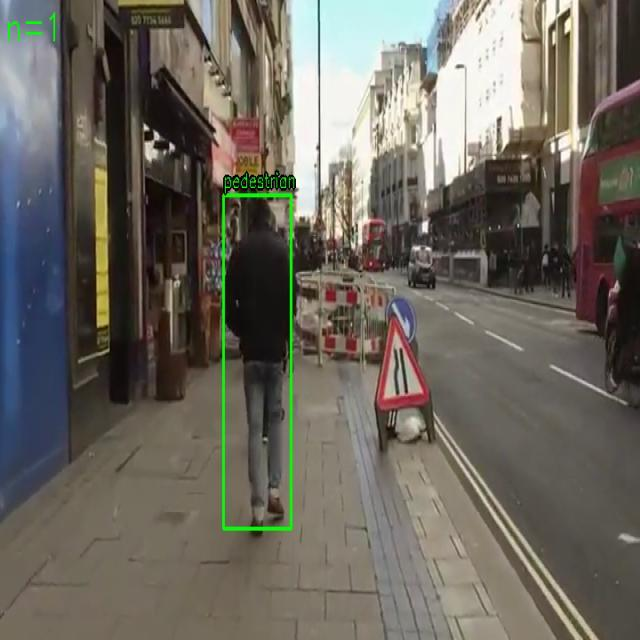with scooter: (223, 195, 292, 530)
